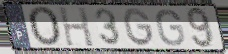3: (94, 7, 122, 47)
9: (187, 5, 216, 50)
G: (122, 7, 156, 48), (155, 8, 187, 48)
H: (57, 6, 96, 49)
O: (26, 5, 63, 48)
